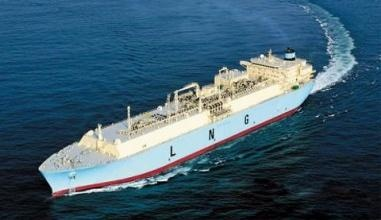Cargoship: (41, 44, 319, 193)
